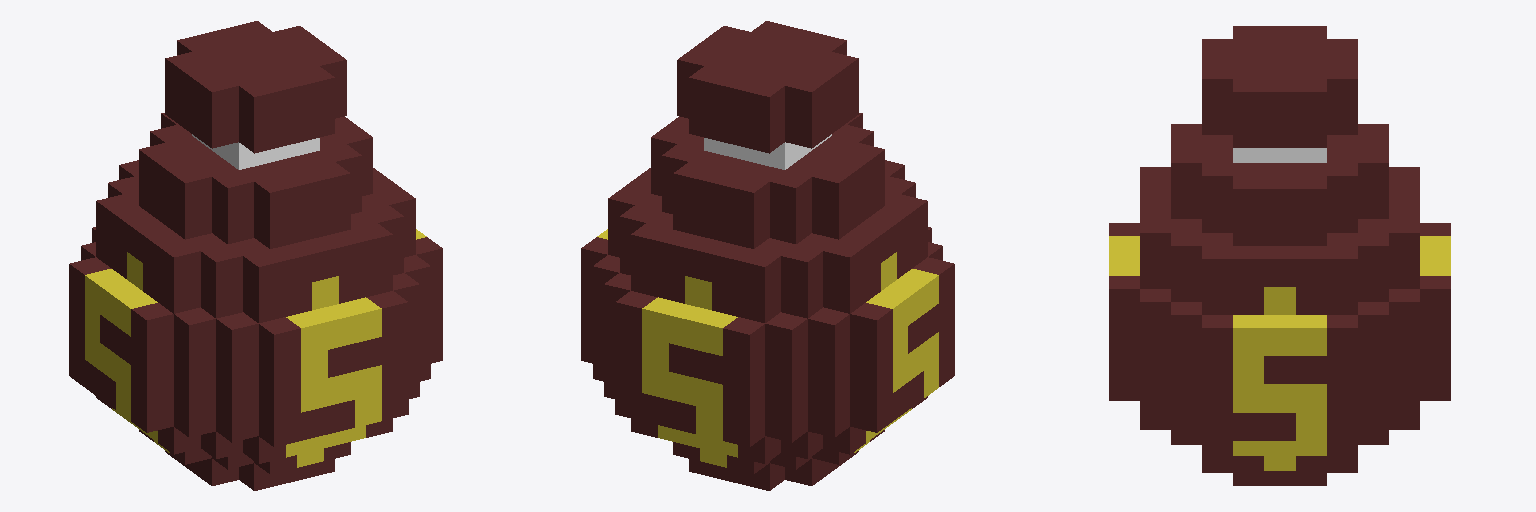
The picture shows the model from 3 angles: view 1: azimuth 30°, elevation 25°; view 2: azimuth 150°, elevation 25°; view 3: azimuth 270°, elevation 25°; orthographic projection.
Visible parts, largest first — view 1: object 1; view 2: object 1; view 3: object 1.
Boxes of the visible parts, x1,y1,x2,y2 form: object 1: [69, 21, 442, 490]; object 1: [581, 21, 954, 490]; object 1: [1109, 26, 1450, 485].
Bounding box in the file's own units: 1.1 × 1.4 × 1.1.
Materials: 1 (1 with a texture image).